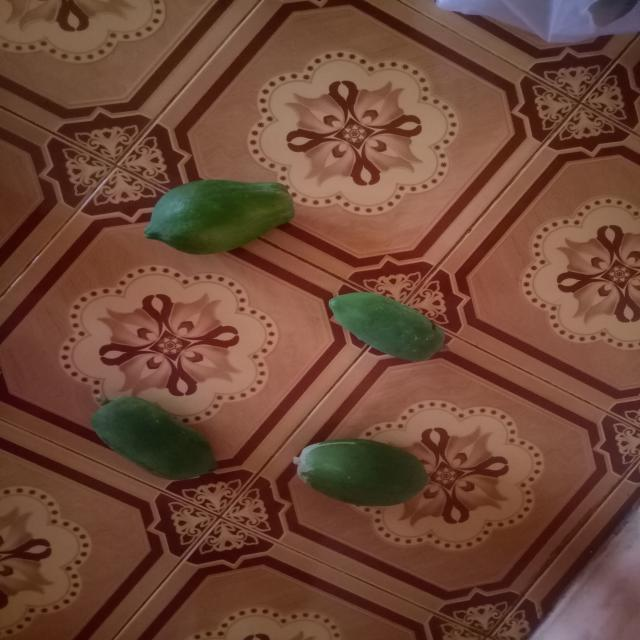Pepaya unrippen: (126, 173, 295, 254), (86, 392, 218, 482), (284, 442, 427, 510), (319, 293, 458, 359)
